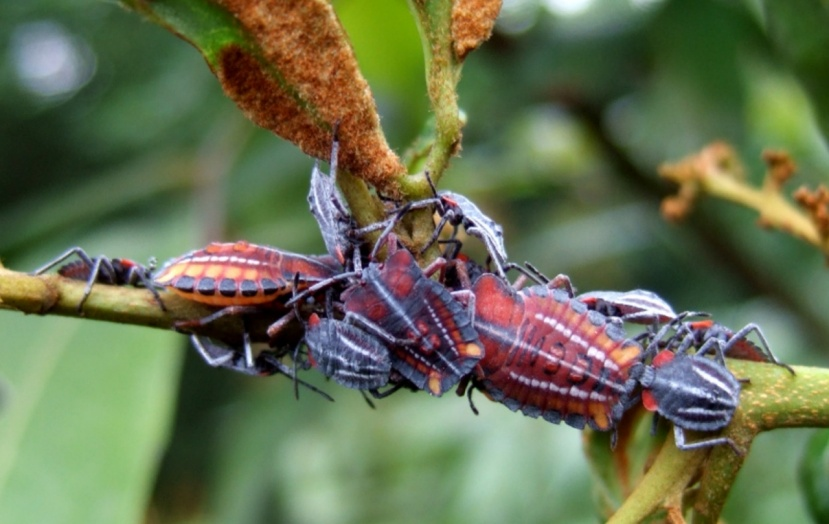Stink_Bug: (427, 265, 633, 435), (269, 253, 463, 404), (155, 246, 330, 350), (644, 325, 771, 415), (431, 189, 510, 260), (308, 163, 357, 264), (49, 255, 164, 288), (587, 295, 667, 319)
